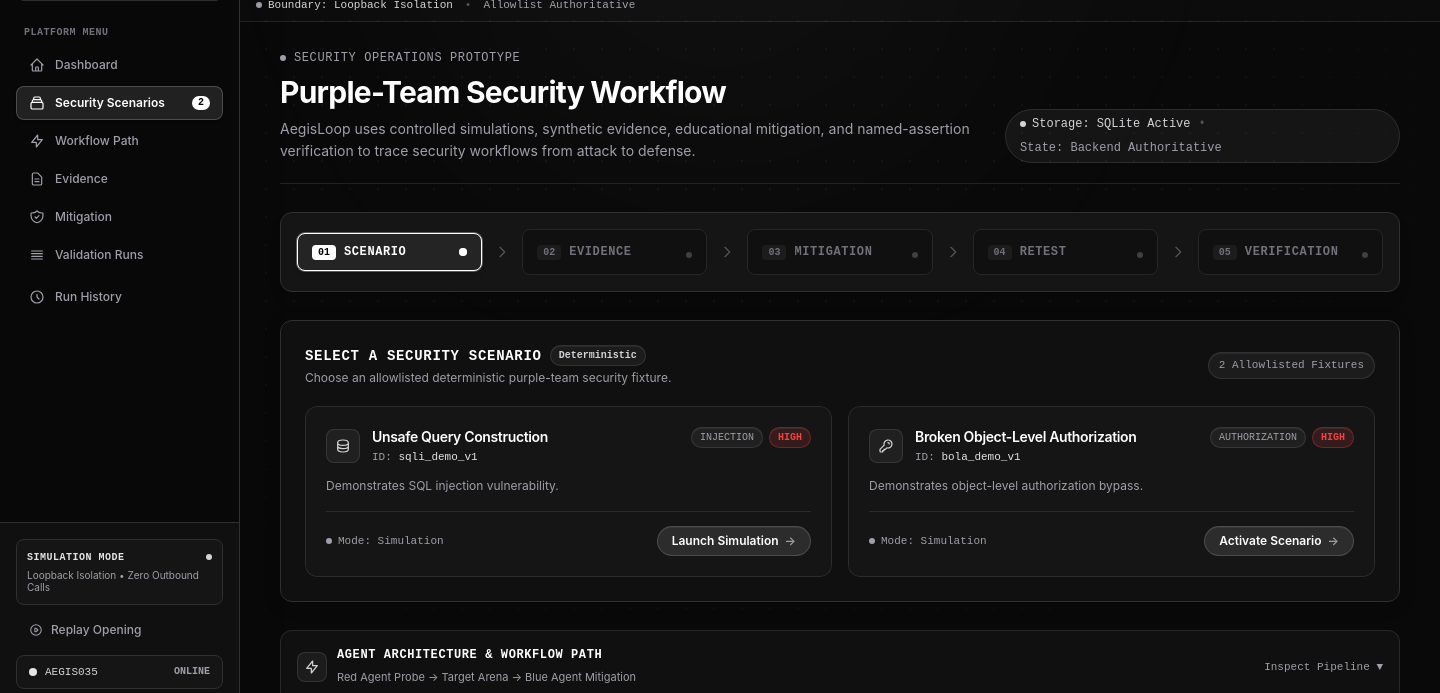
Test: AegisLoop App End-to-End Workflow › executes full journey: launch simulation -> view evidence -> apply mitigation -> retest
Check: the text "Unsafe Query Construction" is shown, box left=372, top=427, right=548, bottom=447
# Select SQLi Scenario to Create Run
Step 1. Click the button with aria-label "run simulation" → (734, 541), box left=657, top=526, right=811, bottom=556
(page scrolled)
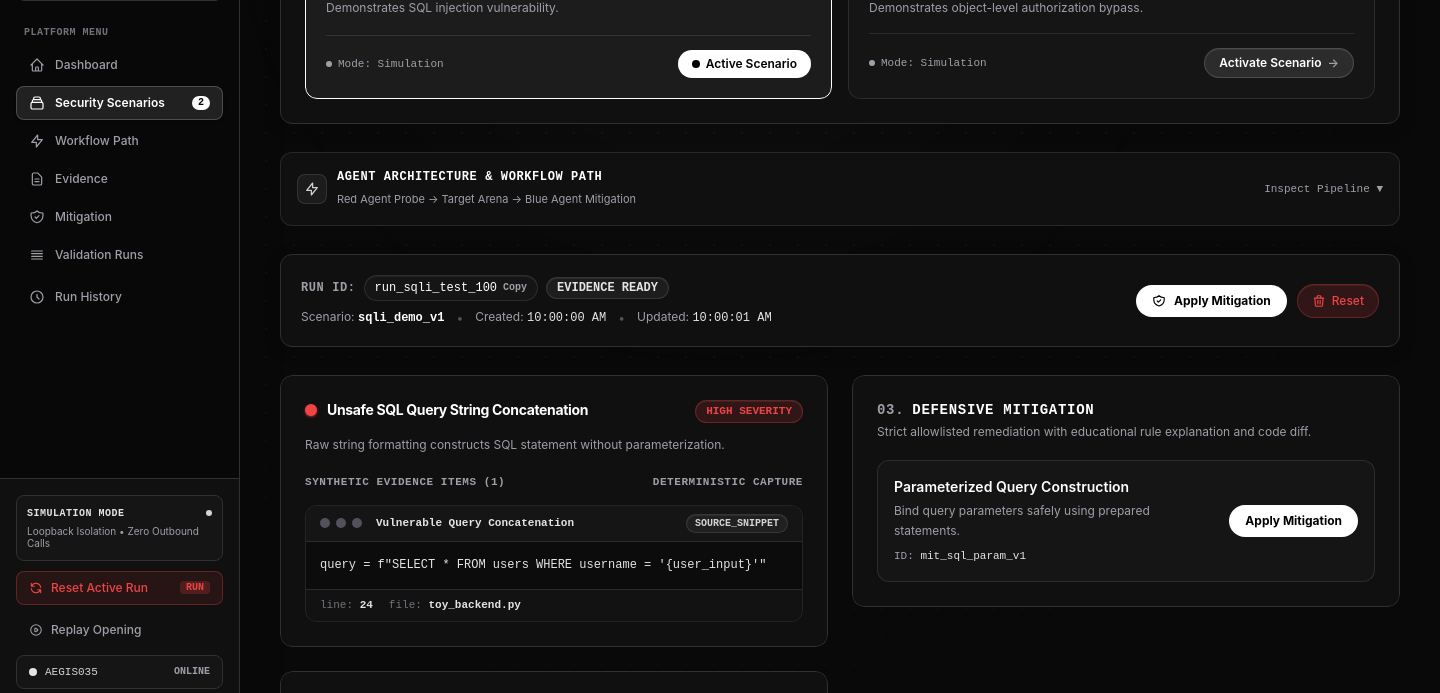
Check: the text "run_sqli_test_100" is shown, box left=375, top=280, right=497, bottom=296
Check: the heading "Unsafe SQL Query String Concatenation" is shown, box left=327, top=400, right=588, bottom=420
Check: the text "Vulnerable Query Concatenation" is shown, box left=376, top=516, right=574, bottom=531
Step 2. Click the button "Apply Mitigation" in the row of "Updated:" → (1211, 301), box left=1136, top=285, right=1287, bottom=317
(page scrolled)
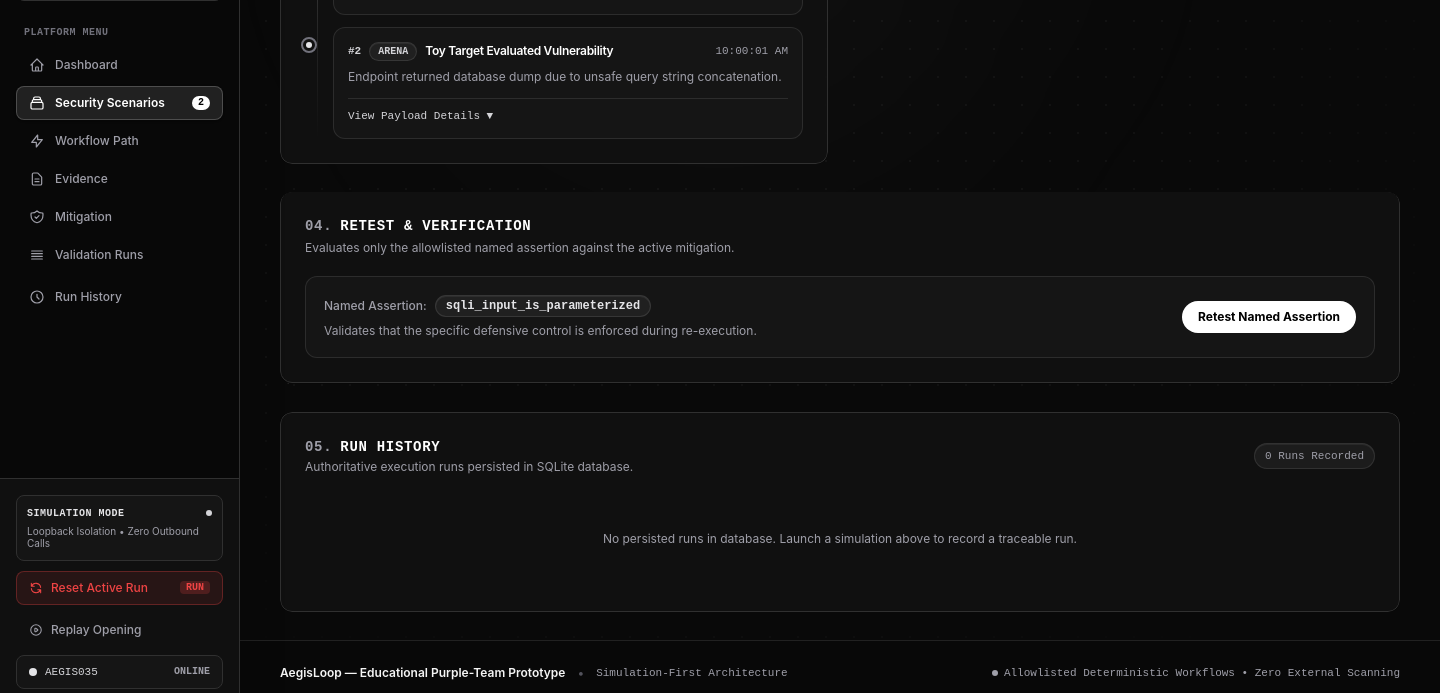
Step 3. Click the button "Retest Named Assertion" → (1269, 317), box left=1182, top=301, right=1356, bottom=333
(page scrolled)
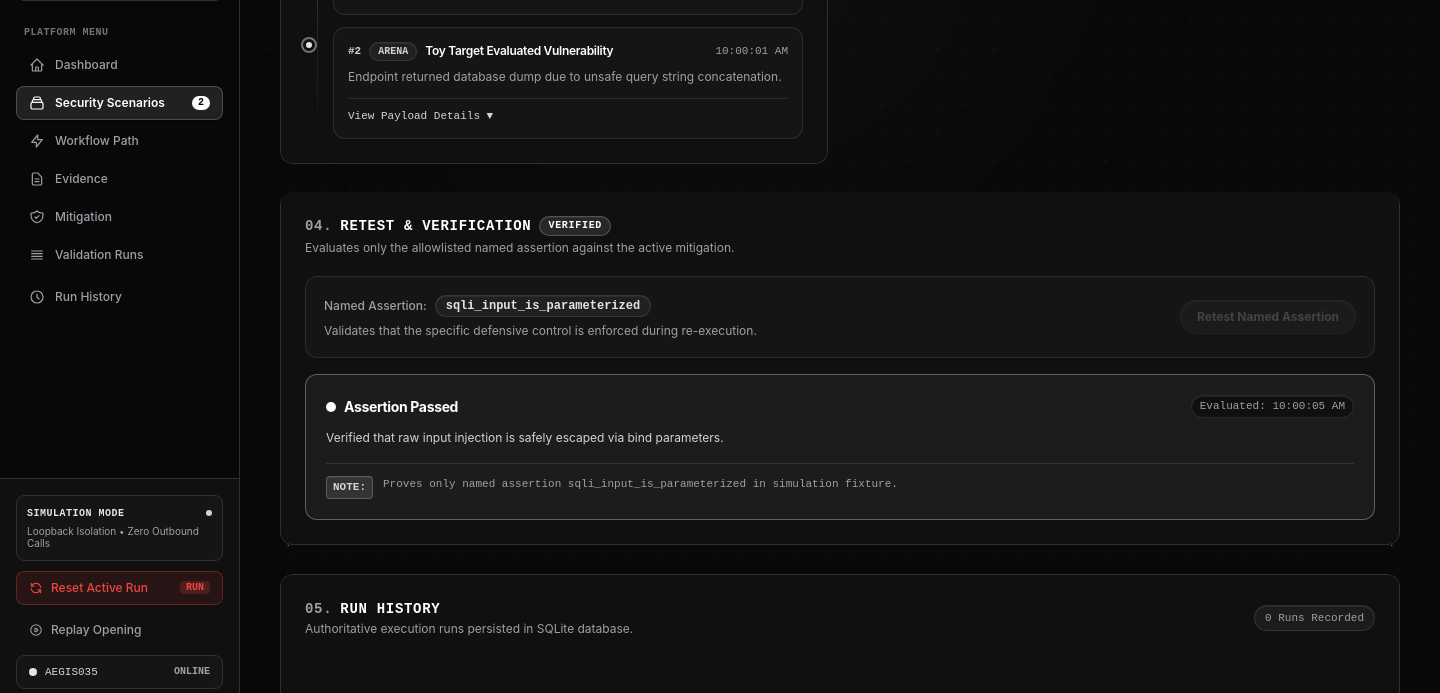
Check: the text "Assertion Passed" is shown, box left=344, top=397, right=458, bottom=417
Check: the text "Proves only named assertion sqli_input_is_parameterized in simulation fixture" is shown, box left=383, top=478, right=898, bottom=490
